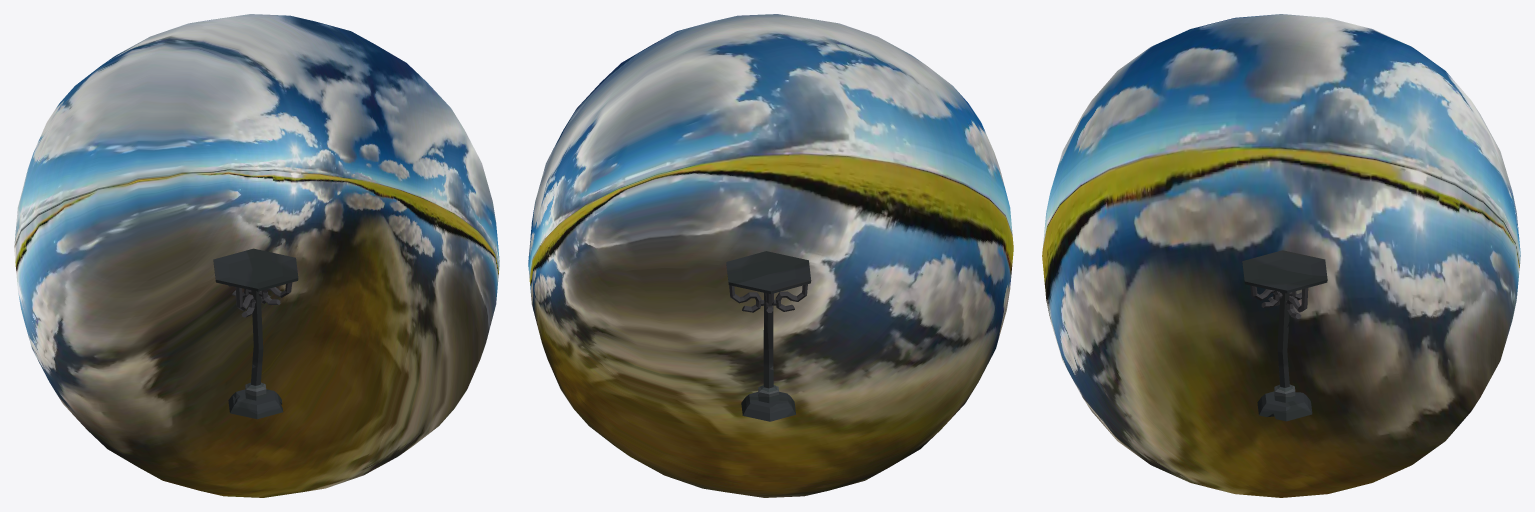
File: EcclesiasticalMedium.glb
3 renders of one model, left to right at view 1: azimuth 30°, elevation 25°; view 2: azimuth 150°, elevation 25°; view 3: azimuth 270°, elevation 25°, orthographic.
Visible parts, largest first — view 1: Room, Candle_Stand; view 2: Room, Candle_Stand; view 3: Room, Candle_Stand.
Part boxes in pixels (x1,y1,x2,y2): Room: (14,14,499,497); Candle_Stand: (213,248,298,419); Room: (528,14,1013,497); Candle_Stand: (726,251,811,421); Room: (1042,14,1520,497); Candle_Stand: (1242,250,1327,421).
Size of the model in its own units: 24.44 by 24.44 by 24.44.
2 materials, 2 textured.
